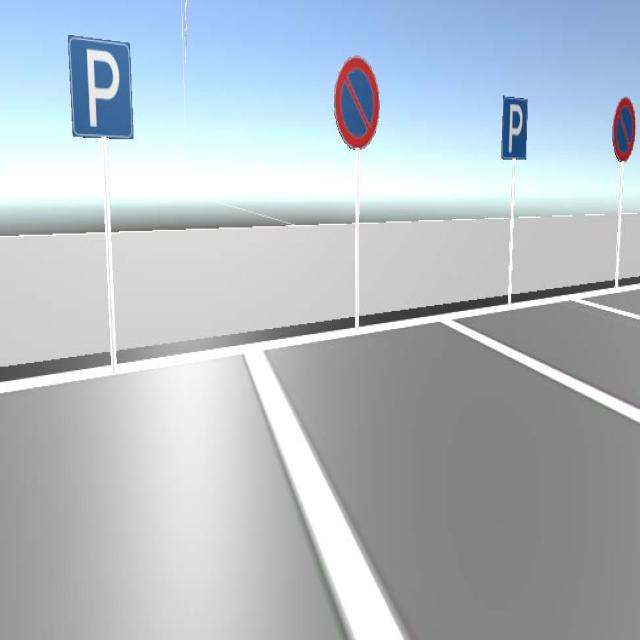park: (68, 35, 133, 140), (502, 98, 527, 158)
parkyasak: (334, 55, 379, 148), (613, 98, 635, 161)
